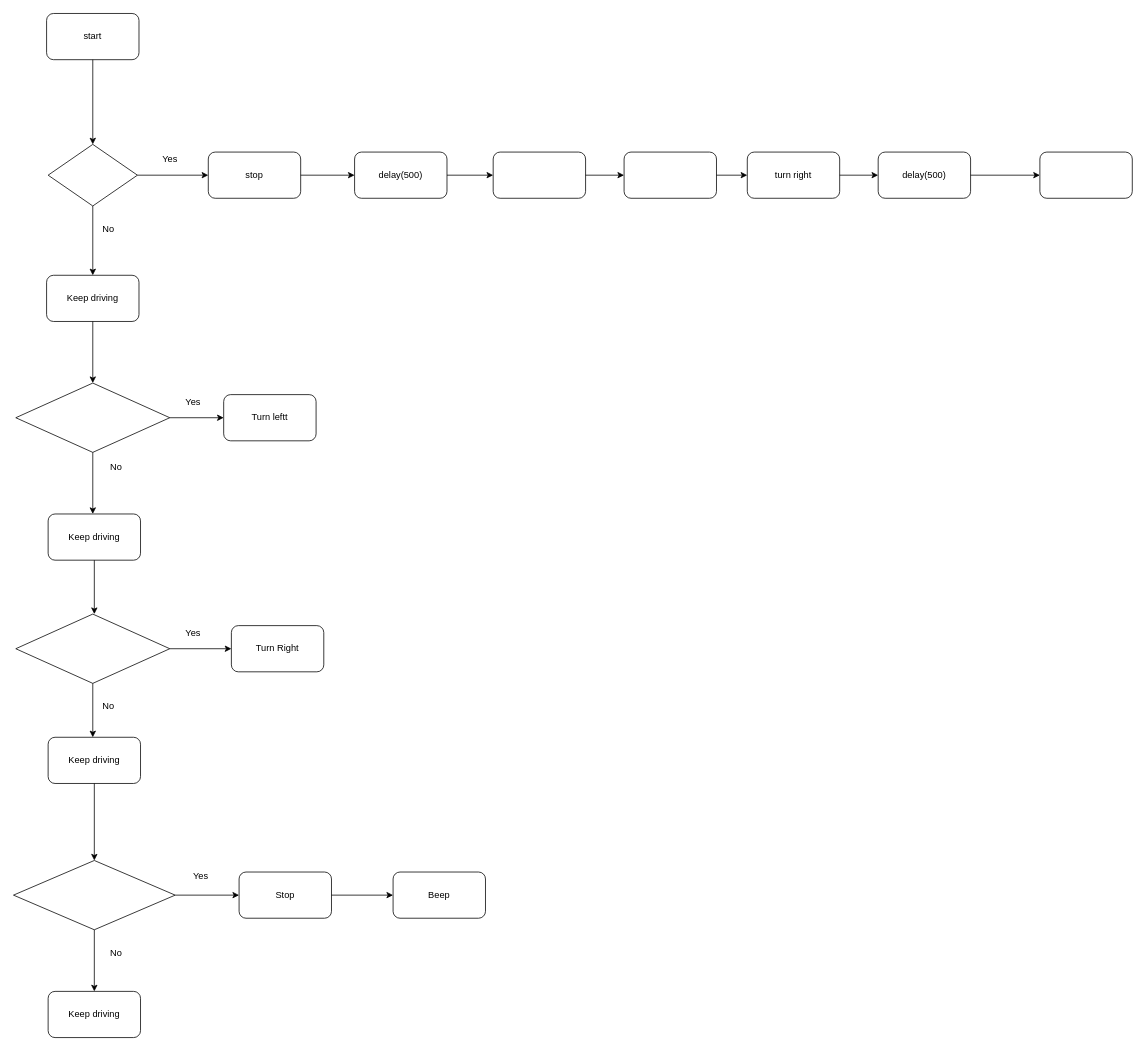
The diagram is 1146 pixels wide and 1051 high, and some of its shapes have lost their labels. Each missing label, with the box of its shape:
delay(800): (623, 151, 716, 198)
forward: (1039, 151, 1132, 198)
Left sensor detects Dark stripe: (15, 613, 170, 683)
Object ahead: (47, 144, 137, 206)
Reed sensor detects something: (13, 860, 175, 930)
reverse: (492, 151, 586, 198)
Right sensor detects Dark stripe: (15, 382, 170, 452)
